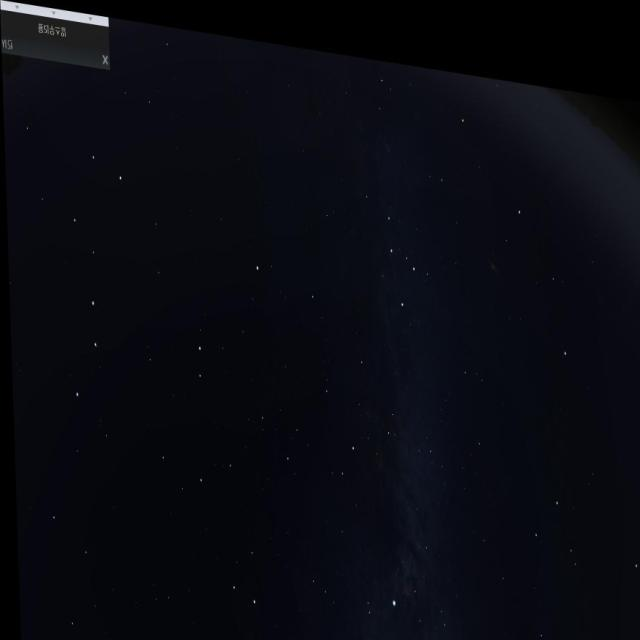cassiopeia: (356, 161, 437, 317)
cygnus: (346, 536, 456, 640)
ursa_major: (51, 133, 132, 416)
